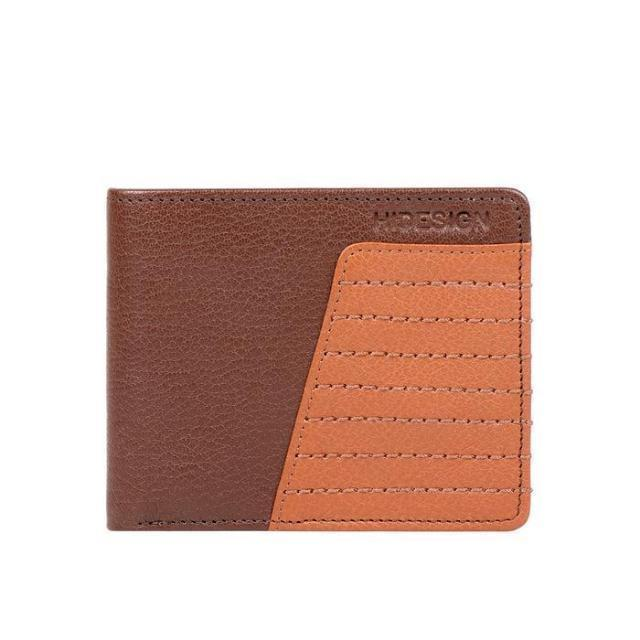Wallet: (100, 179, 534, 537)
